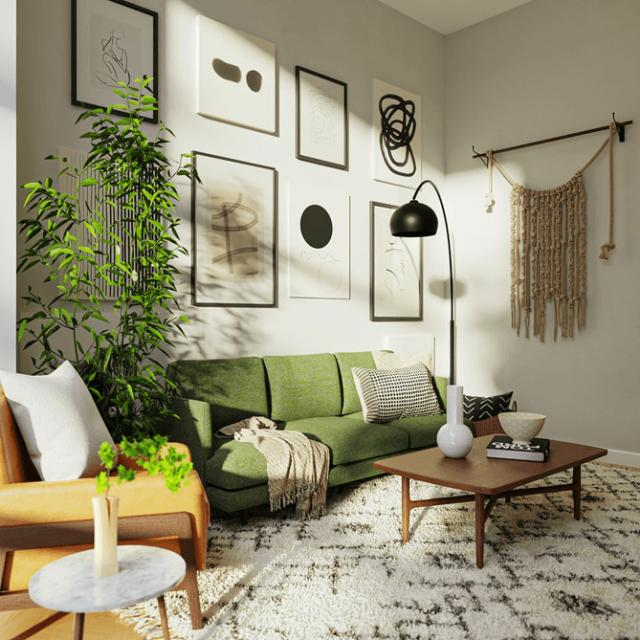modern chair: (3, 352, 210, 639)
modern desk: (382, 418, 614, 566)
modern sofa: (157, 336, 459, 470)
